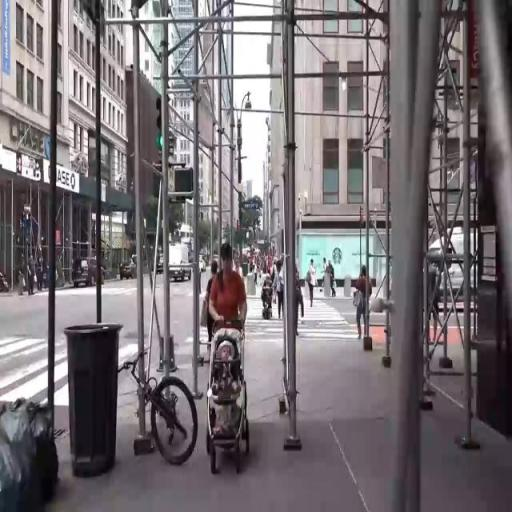person: (220, 243, 248, 338), (356, 263, 382, 364), (207, 248, 217, 354), (273, 263, 287, 318), (306, 256, 319, 315), (329, 259, 340, 309), (253, 260, 259, 285), (324, 256, 328, 276)
